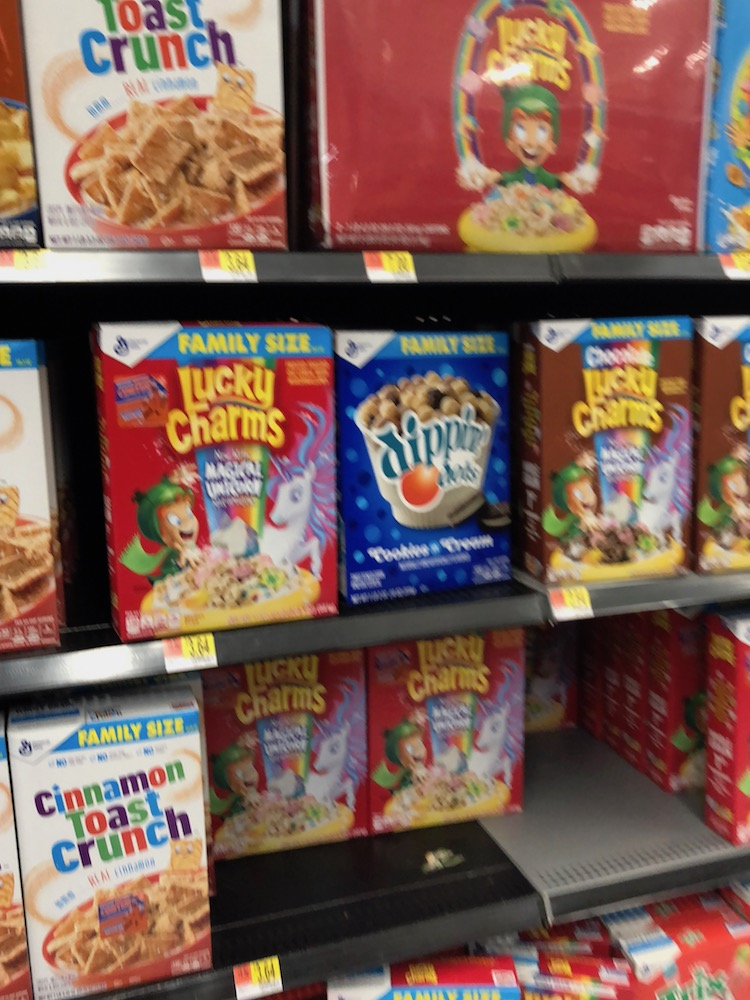Dippin Dots Cookies & Cream -568929378: (333, 343, 525, 589)
